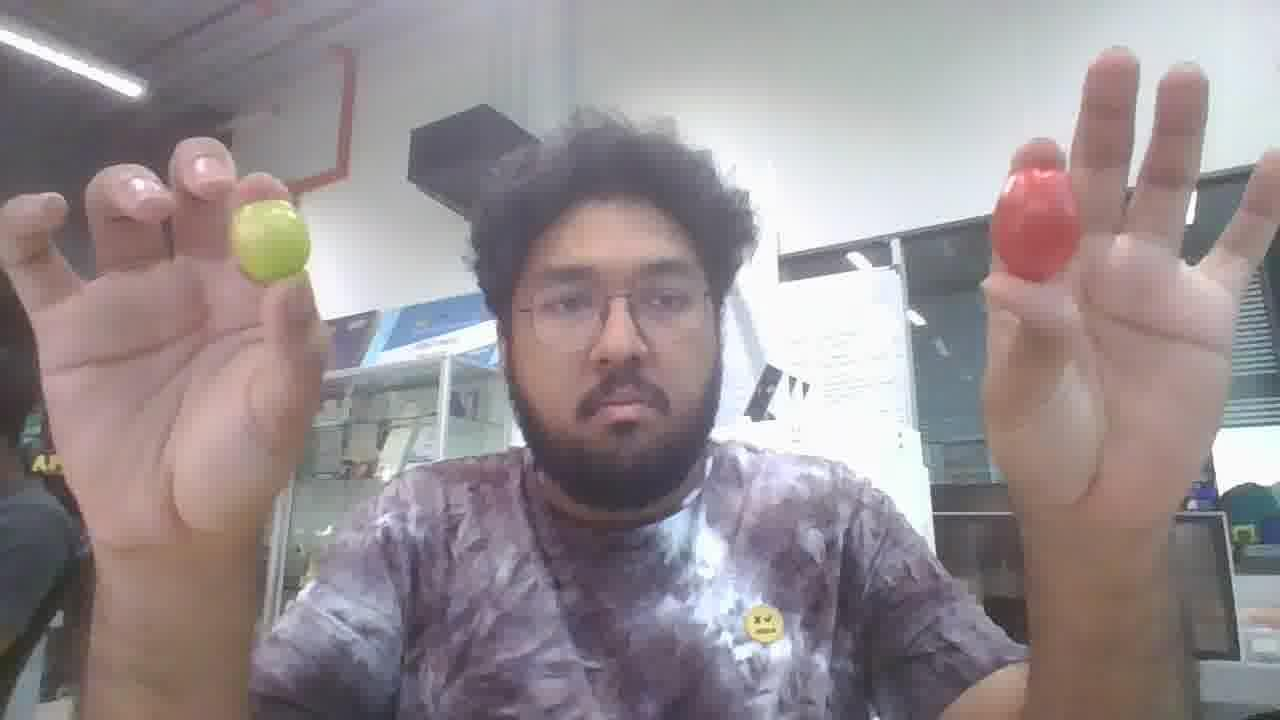green_cherry_tomato: (231, 200, 310, 283)
red_cherry_tomato: (990, 168, 1080, 281)
